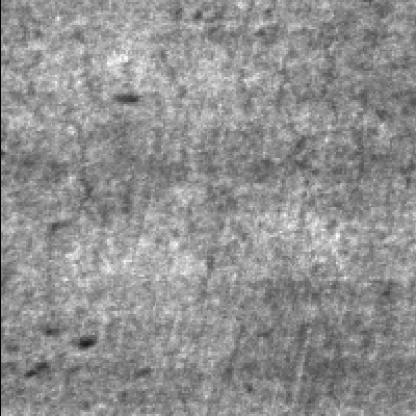crazing: (11, 32, 110, 310)
